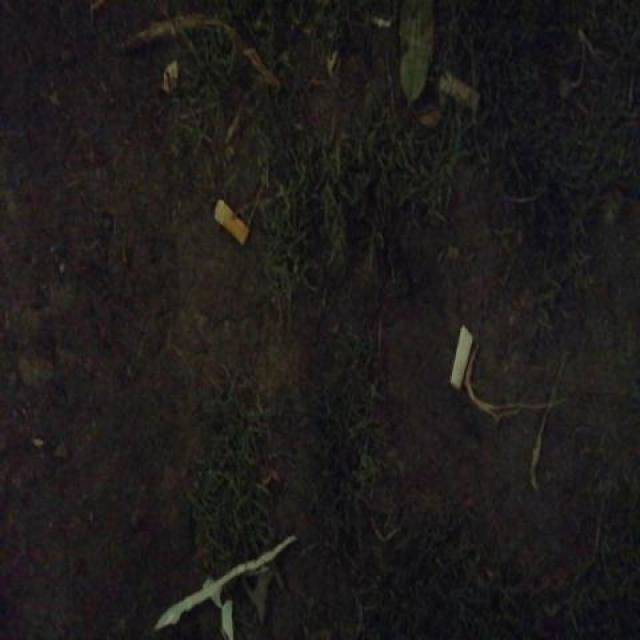non-organic waste: (212, 196, 252, 249), (446, 322, 474, 395)
